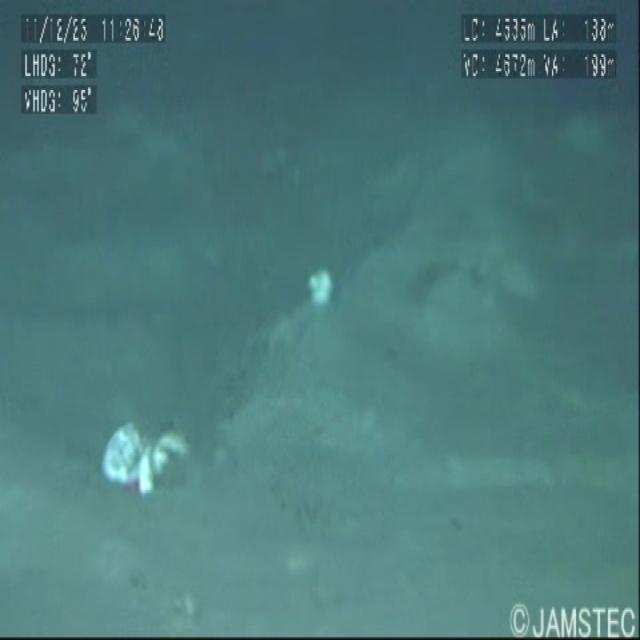Litter: (96, 386, 197, 528), (302, 246, 353, 328)
